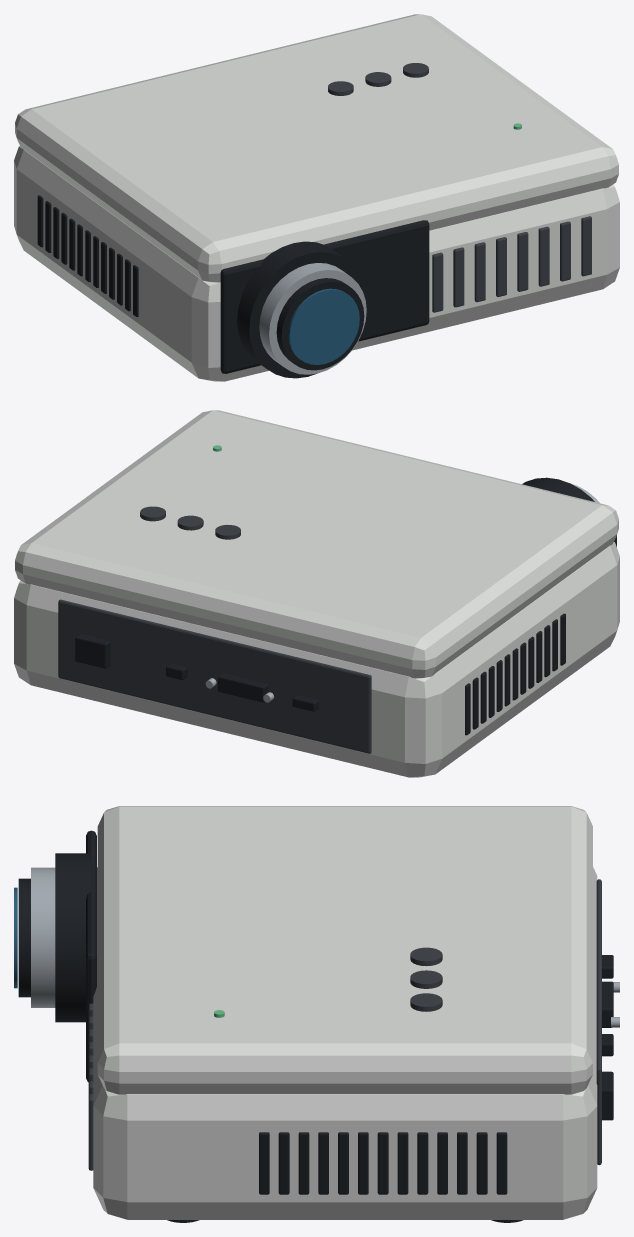
The model's file is projector.glb.
3 renders of one model, top to bottom at view 1: azimuth 30°, elevation 25°; view 2: azimuth 150°, elevation 25°; view 3: azimuth 270°, elevation 25°, orthographic. The views are drawn at different scales.
Parts seen in each view (by area): view 1: Projector_Top_Cover, Projector_Lower_Housing, Projector_Front_Dark_Inset, Projector_Lens, Projector_Lens.003, Projector_Lens.001, Projector_Lens.002, Projector_Front_Vent.001, Projector_Front_Vent.002, Projector_Front_Vent, Projector_Front_Vent.004, Projector_Front_Vent.005 (+3 smaller); view 2: Projector_Top_Cover, Projector_Lower_Housing, Projector_IO_Recess, Projector_Power_Socket, Projector_VGA_Socket, Projector_Lens; view 3: Projector_Top_Cover, Projector_Lower_Housing, Projector_Lens, Projector_Lens.001, Projector_Front_Dark_Inset, Projector_IO_Recess, Projector_Lens.002, Projector_Side_Vent.015, Projector_Side_Vent.025, Projector_Side_Vent.014, Projector_Side_Vent.019, Projector_Side_Vent.020 (+9 smaller).
Boxes of the visible parts, x1=… form: Projector_Top_Cover: x1=15, y1=14, x2=618, y2=282; Projector_Lower_Housing: x1=14, y1=146, x2=619, y2=381; Projector_Front_Dark_Inset: x1=220, y1=220, x2=429, y2=373; Projector_Lens: x1=237, y1=241, x2=366, y2=378; Projector_Lens.003: x1=288, y1=288, x2=359, y2=364; Projector_Lens.001: x1=259, y1=263, x2=366, y2=374; Projector_Lens.002: x1=276, y1=278, x2=364, y2=370; Projector_Front_Vent.001: x1=453, y1=247, x2=464, y2=307; Projector_Front_Vent.002: x1=474, y1=242, x2=485, y2=302; Projector_Front_Vent: x1=432, y1=252, x2=443, y2=312; Projector_Front_Vent.004: x1=517, y1=232, x2=528, y2=291; Projector_Front_Vent.005: x1=538, y1=226, x2=549, y2=286; Projector_Top_Cover: x1=15, y1=410, x2=618, y2=678; Projector_Lower_Housing: x1=14, y1=542, x2=619, y2=777; Projector_IO_Recess: x1=58, y1=599, x2=371, y2=753; Projector_Power_Socket: x1=75, y1=634, x2=110, y2=668; Projector_VGA_Socket: x1=218, y1=673, x2=268, y2=702; Projector_Lens: x1=522, y1=477, x2=594, y2=501; Projector_Top_Cover: x1=97, y1=806, x2=592, y2=1094; Projector_Lower_Housing: x1=93, y1=867, x2=597, y2=1219; Projector_Lens: x1=55, y1=853, x2=91, y2=1022; Projector_Lens.001: x1=31, y1=867, x2=55, y2=1007; Projector_Front_Dark_Inset: x1=86, y1=830, x2=96, y2=1082; Projector_IO_Recess: x1=596, y1=879, x2=601, y2=1165; Projector_Lens.002: x1=18, y1=878, x2=30, y2=997; Projector_Side_Vent.015: x1=298, y1=1132, x2=309, y2=1194; Projector_Side_Vent.025: x1=496, y1=1132, x2=507, y2=1194; Projector_Side_Vent.014: x1=278, y1=1132, x2=289, y2=1194; Projector_Side_Vent.019: x1=377, y1=1132, x2=388, y2=1194; Projector_Side_Vent.020: x1=397, y1=1132, x2=408, y2=1194.
Bounding box in the file's own units: 0.3435 × 0.1235 × 0.3365.
